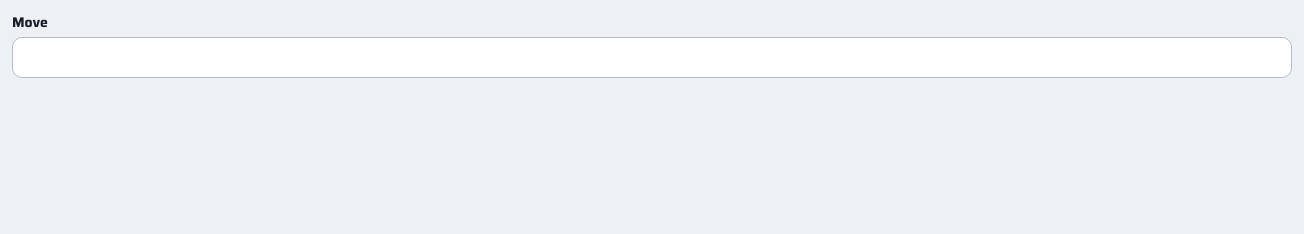
it: SearchSelect › filters by any of the names and picks with the keyboard
The width and height of the screenshot is (1304, 234).
Step 1. Focus the dropdown labelled "Move" → {"x": 652, "y": 57}, box x1=12 y1=37 x2=1292 y2=78
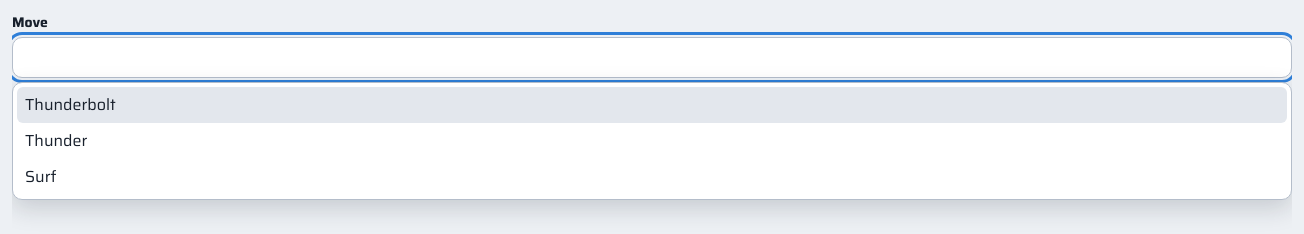
Now the number of options is 3, box x1=17 y1=86 x2=1287 y2=122; x1=25 y1=128 x2=87 y2=152; x1=25 y1=164 x2=56 y2=188
Step 2. Type "rayo" into the dropdown labelled "Move" → {"x": 652, "y": 57}, box x1=12 y1=37 x2=1292 y2=78
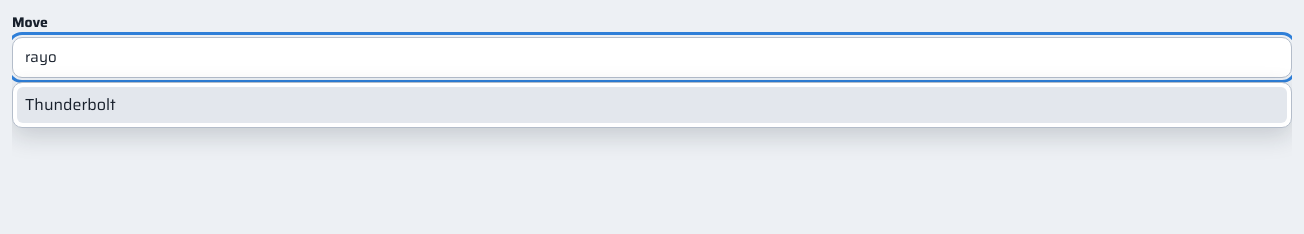
Now the options read "Thunderbolt", in this order, box x1=17 y1=86 x2=1287 y2=122
Step 3. Press Enter in the dropdown labelled "Move", box x1=12 y1=37 x2=1292 y2=78
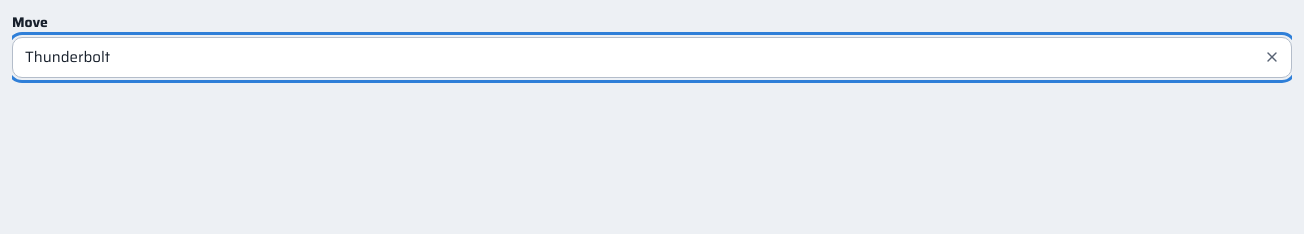
Now the list is gone
Now the dropdown labelled "Move" holds "Thunderbolt", box x1=12 y1=37 x2=1292 y2=78
